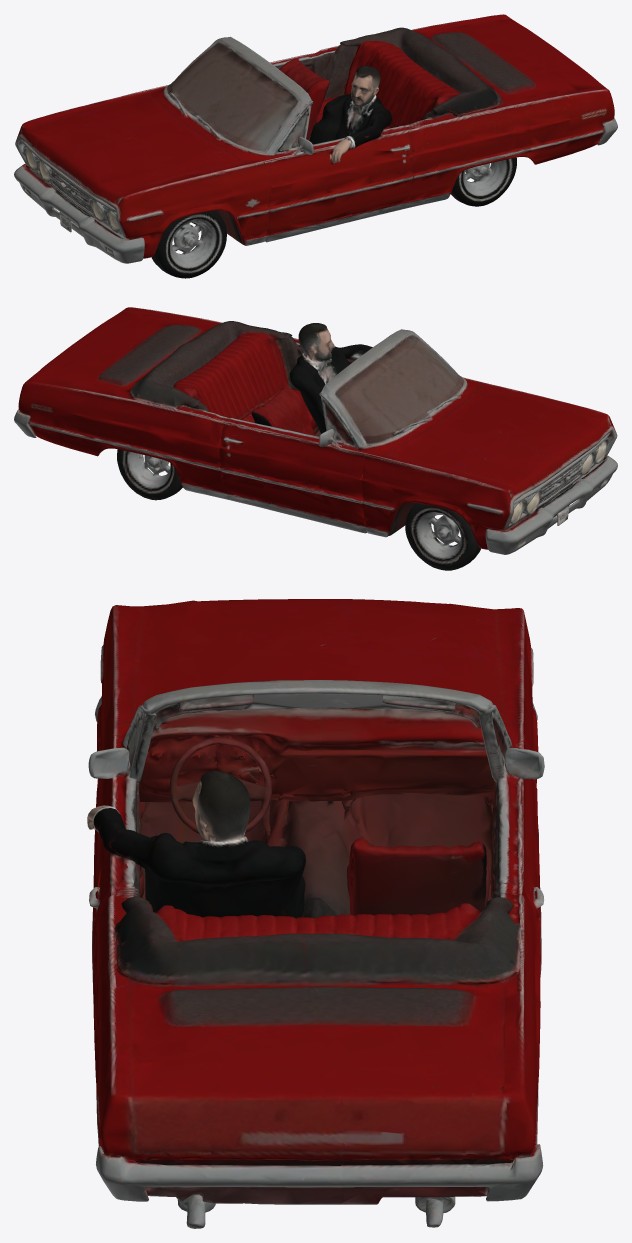
File: george_car.glb
3 views of the same model, one above another, from view 1: azimuth 30°, elevation 25°; view 2: azimuth 150°, elevation 25°; view 3: azimuth 270°, elevation 25° (orthographic). The views are drawn at different scales.
Visible parts, largest first — view 1: mesh_node; view 2: mesh_node; view 3: mesh_node.
Boxes of the visible parts, left/top/right/bottom form: mesh_node: left=14, top=14, right=617, bottom=278; mesh_node: left=14, top=307, right=617, bottom=570; mesh_node: left=87, top=599, right=544, bottom=1228.
Bounding box in the file's own units: 1.9 × 0.5436 × 0.7436.
Materials: 1 (1 with a texture image).
